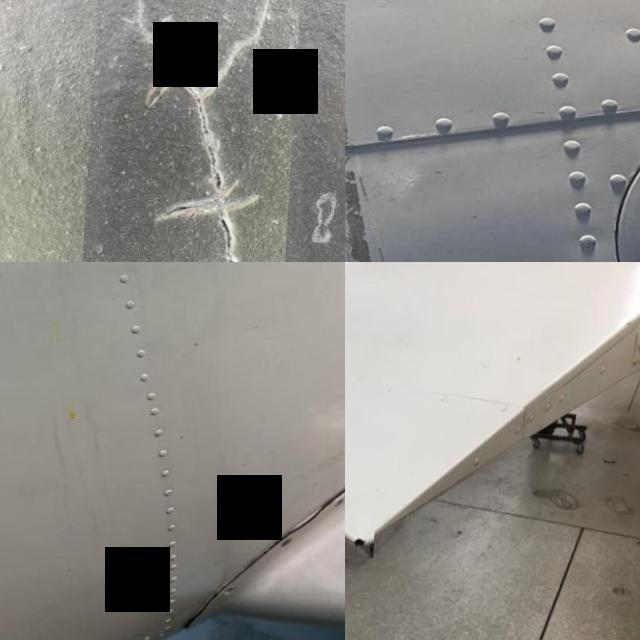Crack: (81, 0, 305, 262), (178, 582, 234, 638), (290, 506, 344, 542), (348, 512, 380, 561)
Missing_Fastener: (230, 587, 246, 599), (339, 502, 345, 510)
